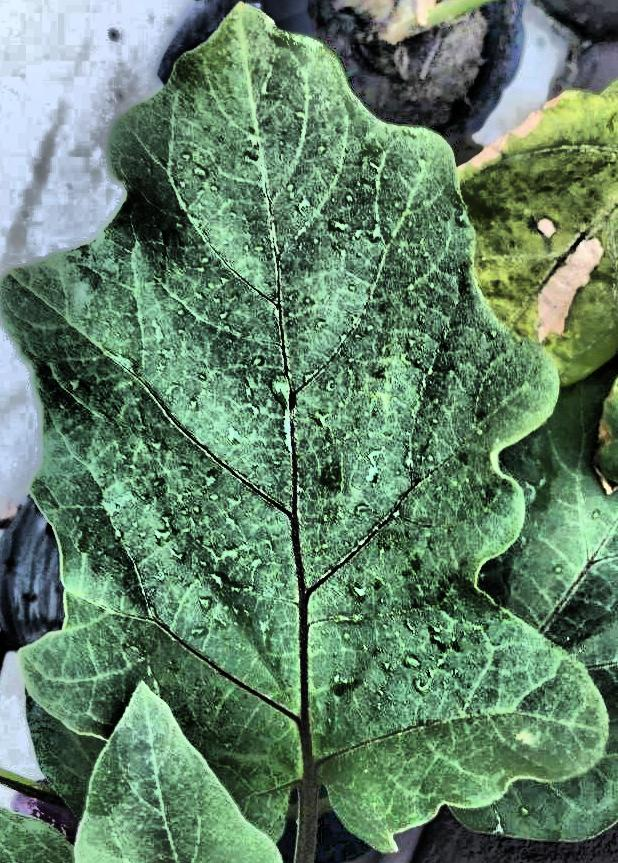HEALTHY: (1, 0, 618, 863)
